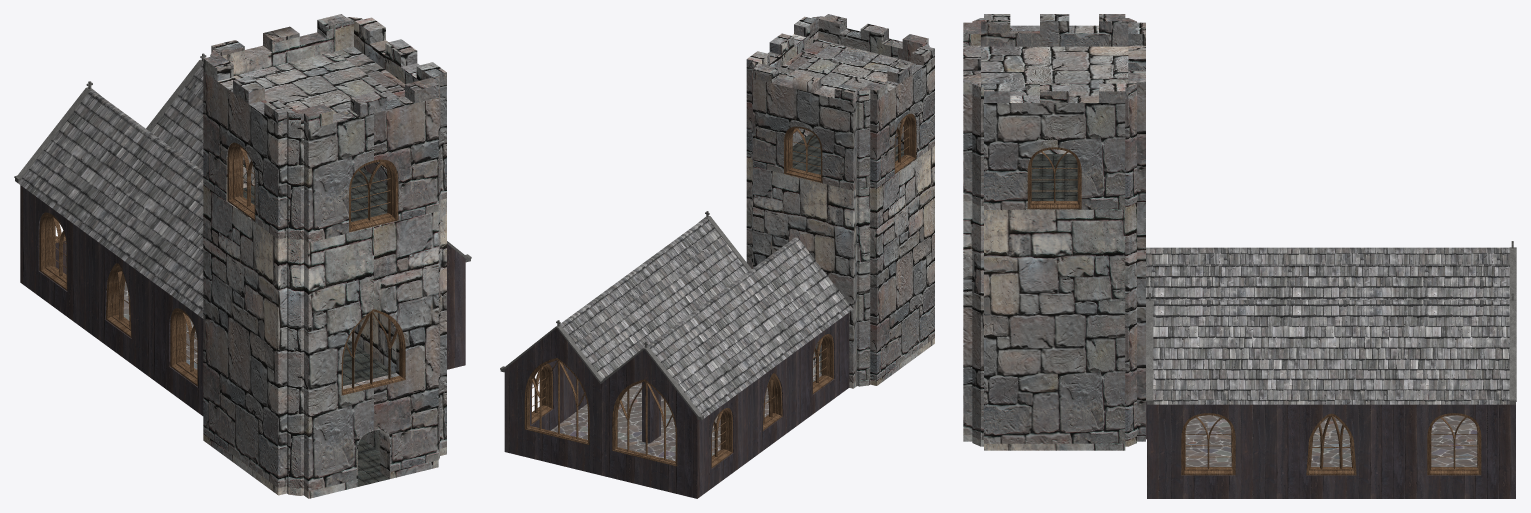
Rendered from Church.FBX.
3 renders of one model, left to right at view 1: azimuth 30°, elevation 25°; view 2: azimuth 150°, elevation 25°; view 3: azimuth 270°, elevation 25°, orthographic. The views are drawn at different scales.
Parts seen in each view (by area): view 1: Church; view 2: Church; view 3: Church.
Boxes of the visible parts, x1,y1,x2,y2 form: Church: [14, 14, 471, 498]; Church: [500, 14, 934, 498]; Church: [963, 14, 1516, 498].
Size of the model in its own units: 16.45 by 21.5 by 30.02.
